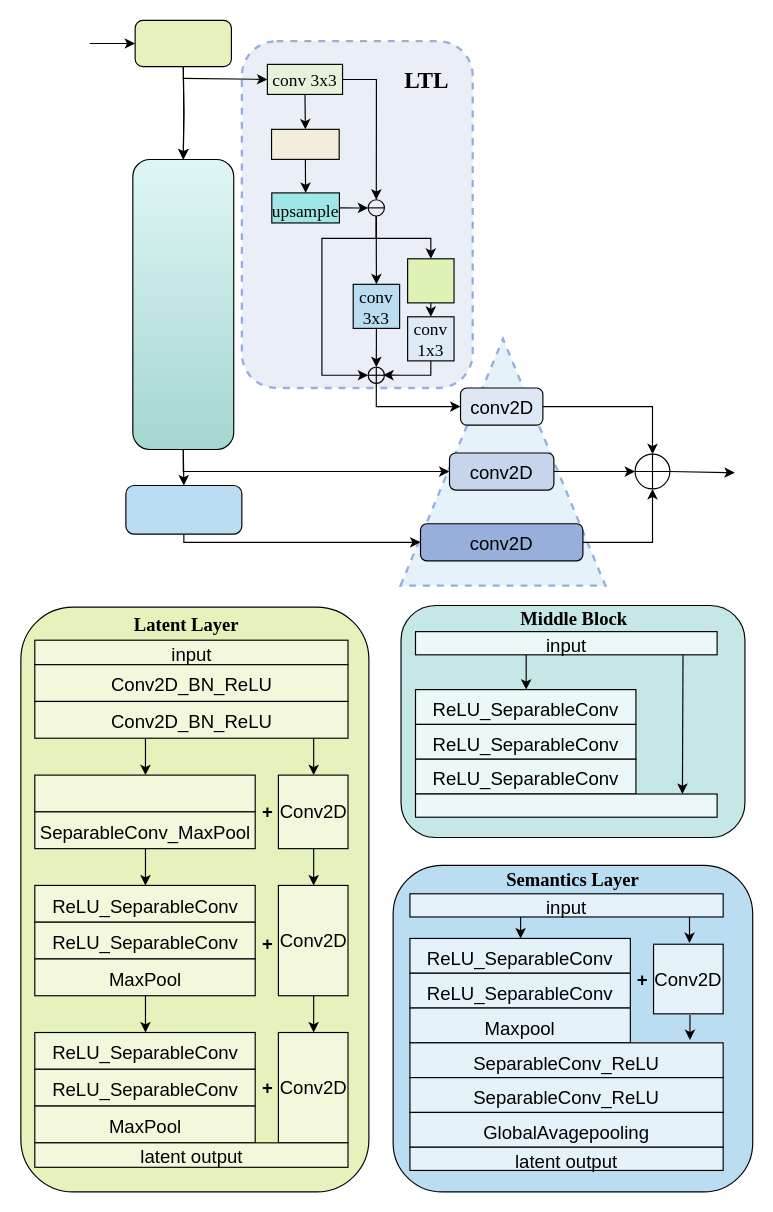
The diagram is 773 pixels wide and 1212 high, and some of its shapes have lost their labels. The shapes that lost their labels are listed below. From the top down, each one's box as (x1, y1, x2, y2) in pixels, then its label:
(134, 19, 231, 67): Latent
(270, 128, 339, 159): avg_pool
(406, 258, 454, 303): conv 3x1
(132, 158, 234, 449): Middle (Middle Block x8)
(125, 484, 242, 534): Semantics
(34, 774, 255, 812): SeparableConv_ReLU
(414, 793, 717, 817): middle block output
